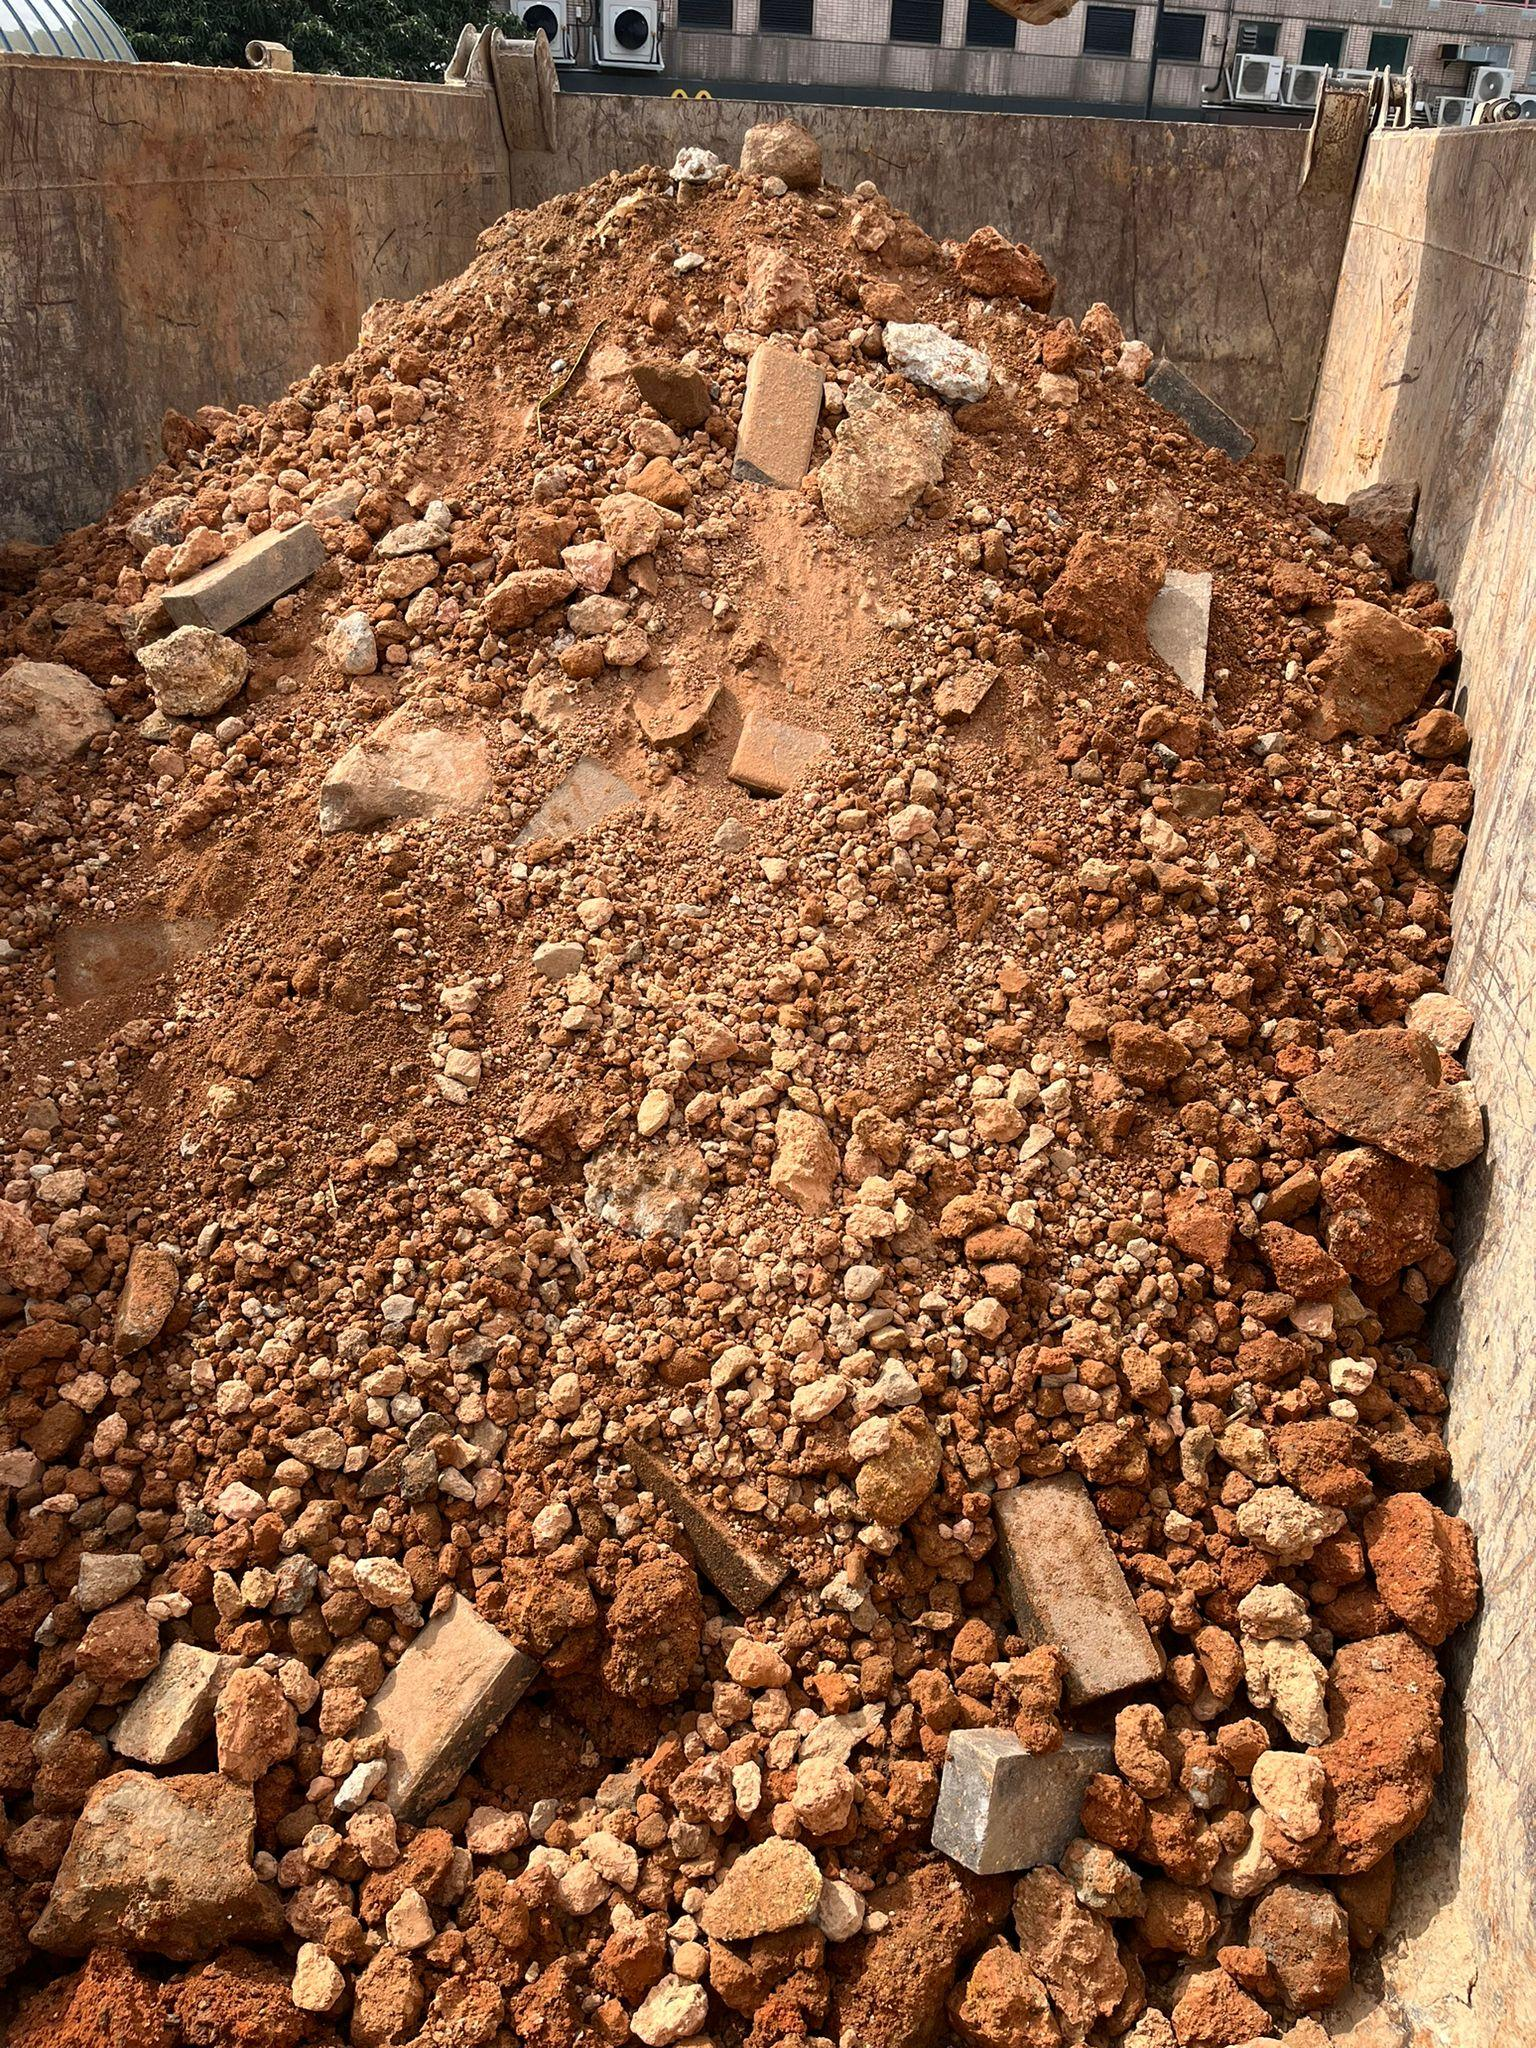wet: (0, 147, 1457, 2048)
